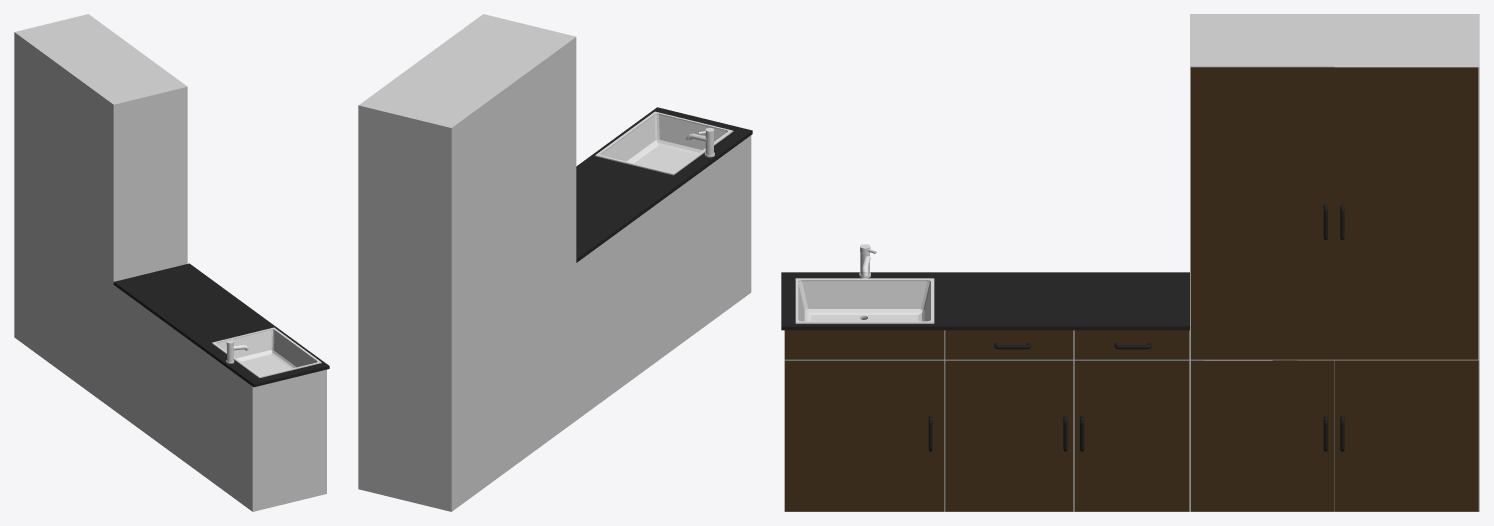
The model's file is Closet&Sink.fbx.
3 views of the same model, side by side, from view 1: azimuth 30°, elevation 25°; view 2: azimuth 150°, elevation 25°; view 3: azimuth 270°, elevation 25° (orthographic). The views are drawn at different scales.
Visible parts, largest first — view 1: Kasten; view 2: Kasten; view 3: Kasten.
Boxes of the visible parts, x1=… form: Kasten: x1=14, y1=14, x2=329, y2=511; Kasten: x1=358, y1=14, x2=752, y2=511; Kasten: x1=781, y1=14, x2=1479, y2=511.
Size of the model in its own units: 231 by 848 by 1205.
